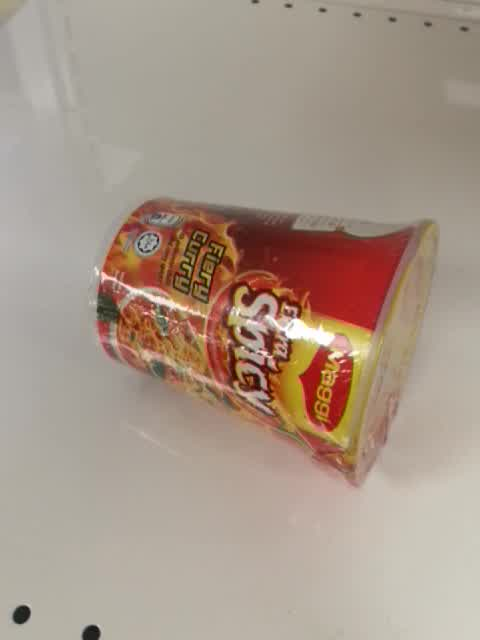maggi: (88, 193, 440, 489)
